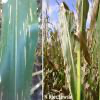Corn leaf blight: (0, 0, 38, 100), (59, 3, 78, 99), (88, 0, 100, 54), (73, 30, 91, 63)
